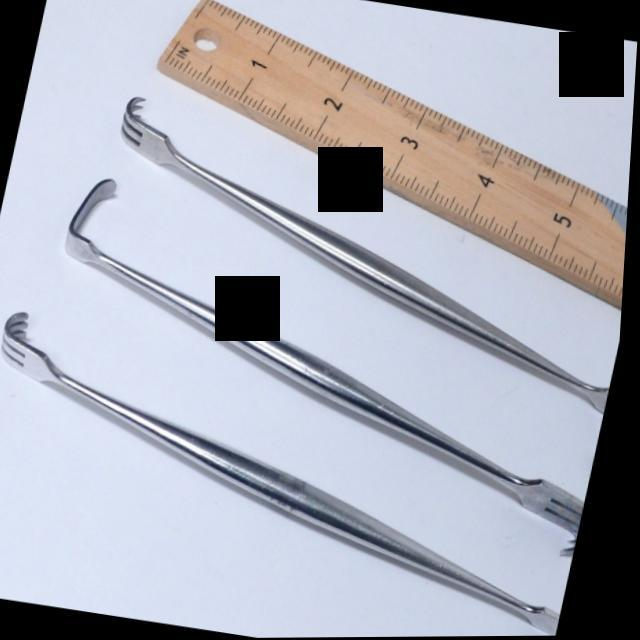Senn Retractor: (12, 158, 632, 564), (51, 70, 636, 477), (0, 283, 620, 640)
